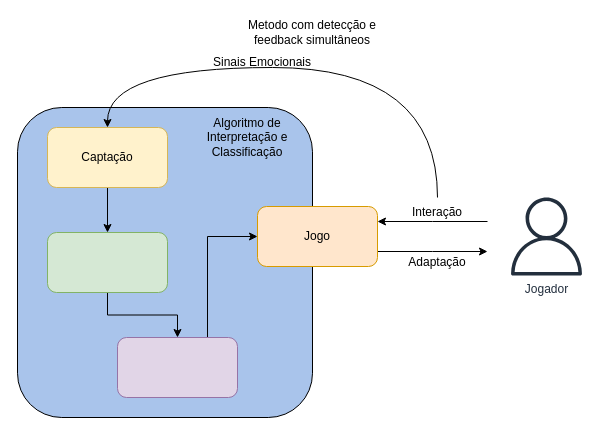
The diagram is 603 pixels wide and 435 high, and some of its shapes have lost their labels. Here are the shapes that lost their labels. From the top down, the centre of each, then its label:
At pixel 107 262: "Interpretação".
At pixel 177 367: "Feedback".
